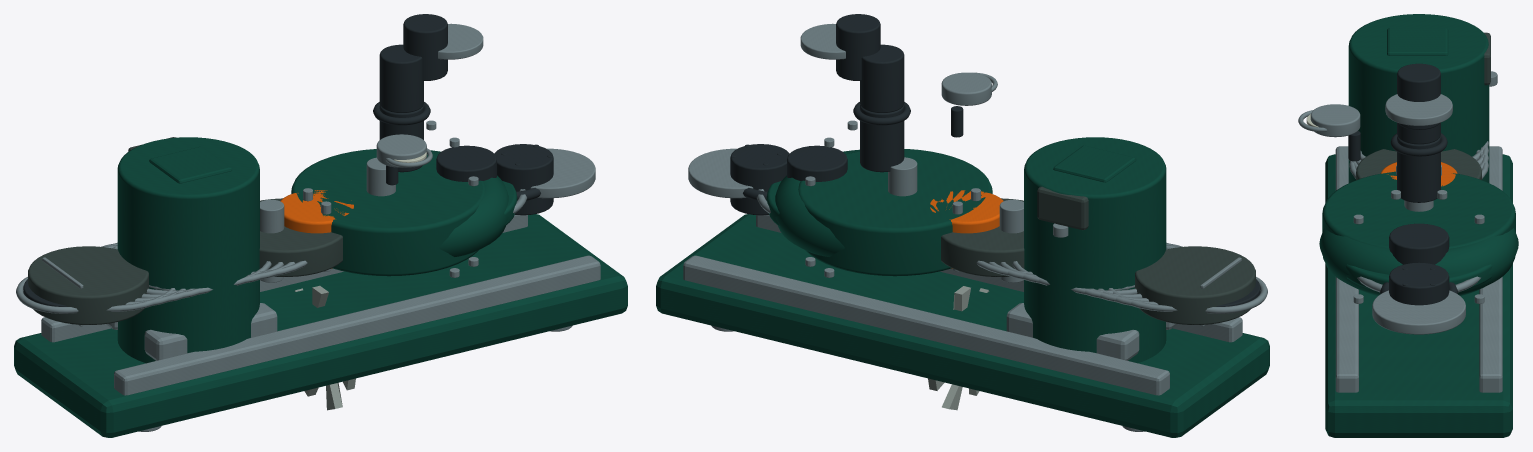
The model's file is PUMP-002.fbx.
The picture shows the model from 3 angles, left to right: view 1: azimuth 30°, elevation 25°; view 2: azimuth 150°, elevation 25°; view 3: azimuth 270°, elevation 25°; orthographic projection.
Visible parts, largest first — view 1: BasePlate_Mesh, MotorStator_Mesh, VoluteBack_Mesh, FrontStiffener_Mesh, MotorRearCover_Mesh, MotorFrontBell_Mesh, VoluteScroll_Mesh, DischargeLine_Segment_2_Mesh, SuctionLine_Segment_2_Mesh, DischargeLine_Segment_3_Mesh, SuctionFlange_Face_Mesh, SuctionLine_Segment_1_Mesh (+11 smaller); view 2: BasePlate_Mesh, MotorStator_Mesh, VoluteBack_Mesh, RearStiffener_Mesh, MotorRearCover_Mesh, MotorFrontBell_Mesh, VoluteScroll_Mesh, DischargeLine_Segment_2_Mesh, SuctionLine_Segment_2_Mesh, DischargeLine_Segment_3_Mesh, DischargeLine_Segment_1_Mesh, SuctionFlange_Face_Mesh (+12 smaller); view 3: BasePlate_Mesh, MotorStator_Mesh, VoluteBack_Mesh, VoluteScroll_Mesh, FrontStiffener_Mesh, RearStiffener_Mesh, SuctionFlange_Face_Mesh, SuctionLine_Segment_2_Mesh, DischargeLine_Segment_1_Mesh, SuctionLine_Segment_1_Mesh, TerminalCover_Mesh, DischargeLine_Segment_3_Mesh (+12 smaller).
Part boxes in pixels (bbox=[...]): BasePlate_Mesh: bbox=[14, 214, 627, 437]; MotorStator_Mesh: bbox=[117, 137, 259, 363]; VoluteBack_Mesh: bbox=[291, 149, 485, 276]; FrontStiffener_Mesh: bbox=[114, 255, 600, 395]; MotorRearCover_Mesh: bbox=[28, 246, 148, 324]; MotorFrontBell_Mesh: bbox=[259, 198, 342, 276]; VoluteScroll_Mesh: bbox=[430, 150, 508, 256]; DischargeLine_Segment_2_Mesh: bbox=[379, 44, 423, 112]; SuctionLine_Segment_2_Mesh: bbox=[494, 144, 553, 215]; DischargeLine_Segment_3_Mesh: bbox=[403, 14, 447, 80]; SuctionFlange_Face_Mesh: bbox=[530, 148, 595, 198]; SuctionLine_Segment_1_Mesh: bbox=[436, 145, 496, 181]; BasePlate_Mesh: bbox=[656, 214, 1269, 437]; MotorStator_Mesh: bbox=[1024, 137, 1166, 363]; VoluteBack_Mesh: bbox=[798, 149, 992, 276]; RearStiffener_Mesh: bbox=[683, 255, 1169, 395]; MotorRearCover_Mesh: bbox=[1135, 246, 1255, 324]; MotorFrontBell_Mesh: bbox=[941, 198, 1024, 276]; VoluteScroll_Mesh: bbox=[775, 149, 859, 256]; DischargeLine_Segment_2_Mesh: bbox=[860, 44, 904, 112]; SuctionLine_Segment_2_Mesh: bbox=[730, 144, 789, 215]; DischargeLine_Segment_3_Mesh: bbox=[836, 14, 880, 80]; DischargeLine_Segment_1_Mesh: bbox=[860, 104, 904, 172]; SuctionFlange_Face_Mesh: bbox=[688, 148, 753, 198]; BasePlate_Mesh: bbox=[1325, 154, 1512, 437]; MotorStator_Mesh: bbox=[1348, 14, 1489, 182]; VoluteBack_Mesh: bbox=[1322, 171, 1515, 261]; VoluteScroll_Mesh: bbox=[1319, 228, 1518, 295]; FrontStiffener_Mesh: bbox=[1335, 146, 1358, 392]; RearStiffener_Mesh: bbox=[1479, 146, 1502, 392]; SuctionFlange_Face_Mesh: bbox=[1372, 290, 1465, 334]; SuctionLine_Segment_2_Mesh: bbox=[1389, 262, 1449, 305]; DischargeLine_Segment_1_Mesh: bbox=[1397, 136, 1440, 202]; SuctionLine_Segment_1_Mesh: bbox=[1389, 223, 1449, 264]; TerminalCover_Mesh: bbox=[1387, 28, 1448, 55]; DischargeLine_Segment_3_Mesh: bbox=[1397, 63, 1440, 129].
Bounding box in the file's own units: 441 × 264 × 150.
Materials: 1 (1 with a texture image).
